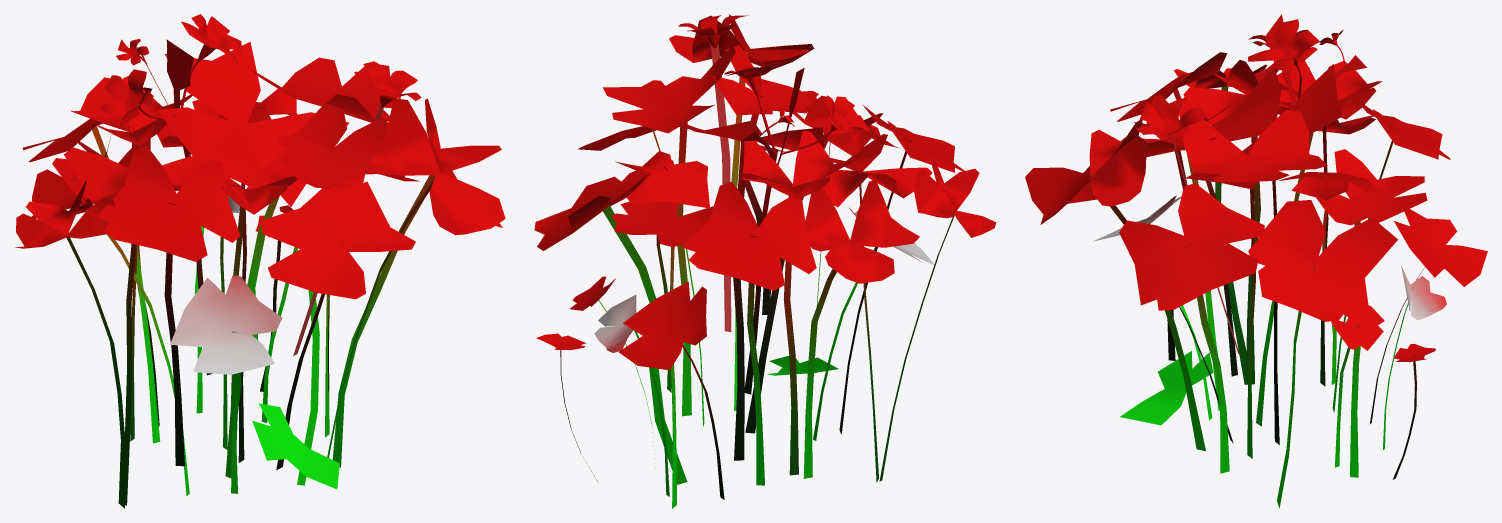
File: Var1_LOD0.fbx
3 views of the same model, side by side, from view 1: azimuth 30°, elevation 25°; view 2: azimuth 150°, elevation 25°; view 3: azimuth 270°, elevation 25° (orthographic). The views are drawn at different scales.
Parts seen in each view (by area): view 1: _59e6_Var1_LOD0; view 2: _59e6_Var1_LOD0; view 3: _59e6_Var1_LOD0.
Boxes of the visible parts, box(x1,y1,x2,y2) form: _59e6_Var1_LOD0: box(15, 14, 505, 508); _59e6_Var1_LOD0: box(534, 14, 996, 508); _59e6_Var1_LOD0: box(1025, 14, 1487, 508).
Bounding box in the file's own units: 27.43 × 28.41 × 27.12.
